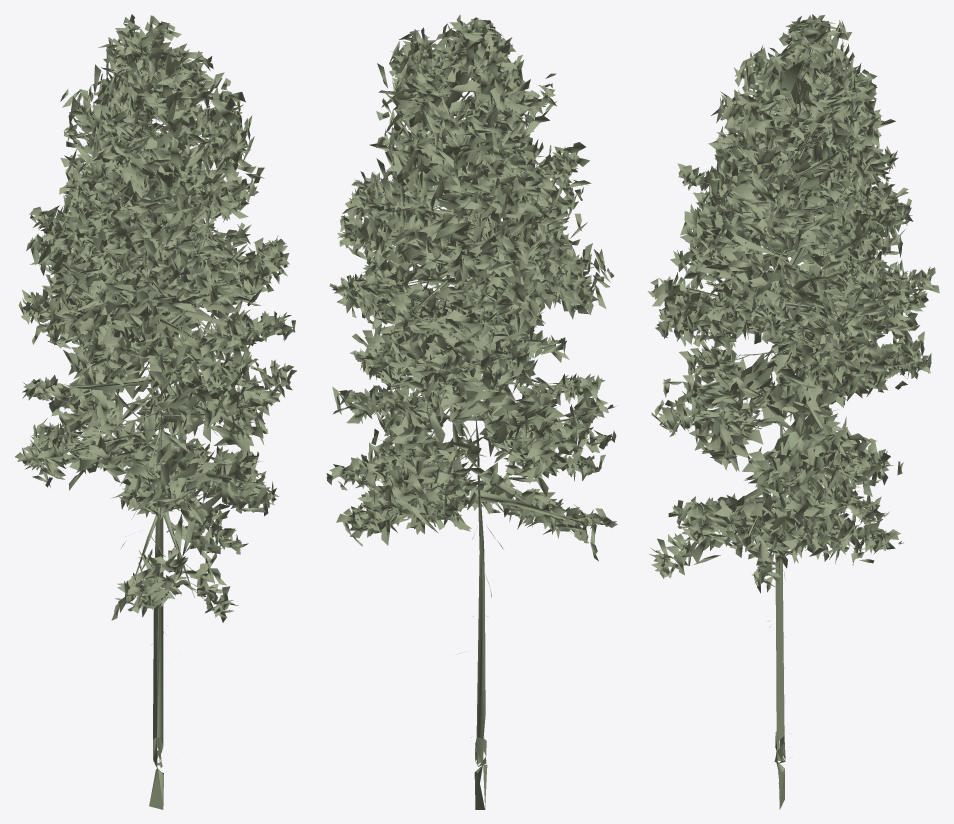
The model's file is conifer-lod2.glb.
3 views of the same model, side by side, from view 1: azimuth 30°, elevation 25°; view 2: azimuth 150°, elevation 25°; view 3: azimuth 270°, elevation 25° (orthographic). The views are drawn at different scales.
Parts seen in each view (by area): view 1: Preserved fir needles, fir_tree_01_a_LOD0; view 2: Preserved fir needles, fir_tree_01_a_LOD0; view 3: Preserved fir needles, fir_tree_01_a_LOD0.
Part boxes in pixels (bbox=[...]): Preserved fir needles: bbox=[15, 14, 296, 622]; fir_tree_01_a_LOD0: bbox=[38, 45, 281, 809]; Preserved fir needles: bbox=[326, 14, 617, 561]; fir_tree_01_a_LOD0: bbox=[346, 38, 600, 809]; Preserved fir needles: bbox=[647, 14, 939, 593]; fir_tree_01_a_LOD0: bbox=[659, 40, 927, 809].
Size of the model in its own units: 6.6 by 18.81 by 6.32.
